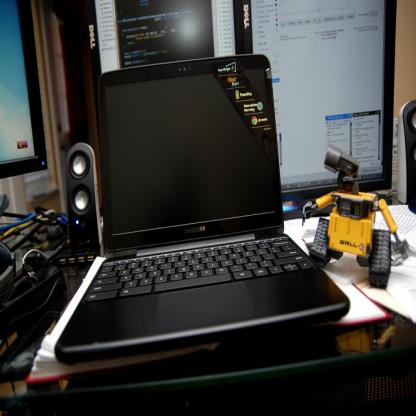board: (37, 51, 353, 378)
